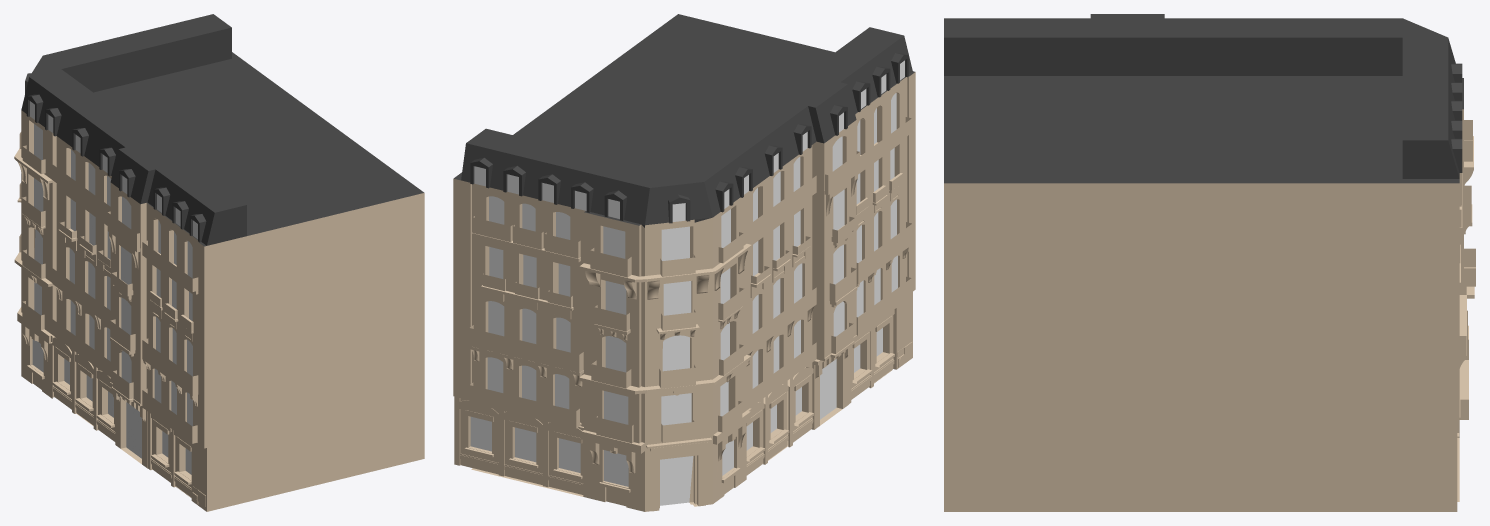
The model's file is otherbuilding.glb.
3 views of the same model, side by side, from view 1: azimuth 30°, elevation 25°; view 2: azimuth 150°, elevation 25°; view 3: azimuth 270°, elevation 25° (orthographic). The views are drawn at different scales.
Parts seen in each view (by area): view 1: group_0.229; view 2: group_0.229; view 3: group_0.229.
Part boxes in pixels (left/top/right/bottom): group_0.229: left=14, top=14, right=424, bottom=511; group_0.229: left=453, top=14, right=915, bottom=511; group_0.229: left=944, top=14, right=1475, bottom=511.
Size of the model in its own units: 19.34 by 23.92 by 31.27.
